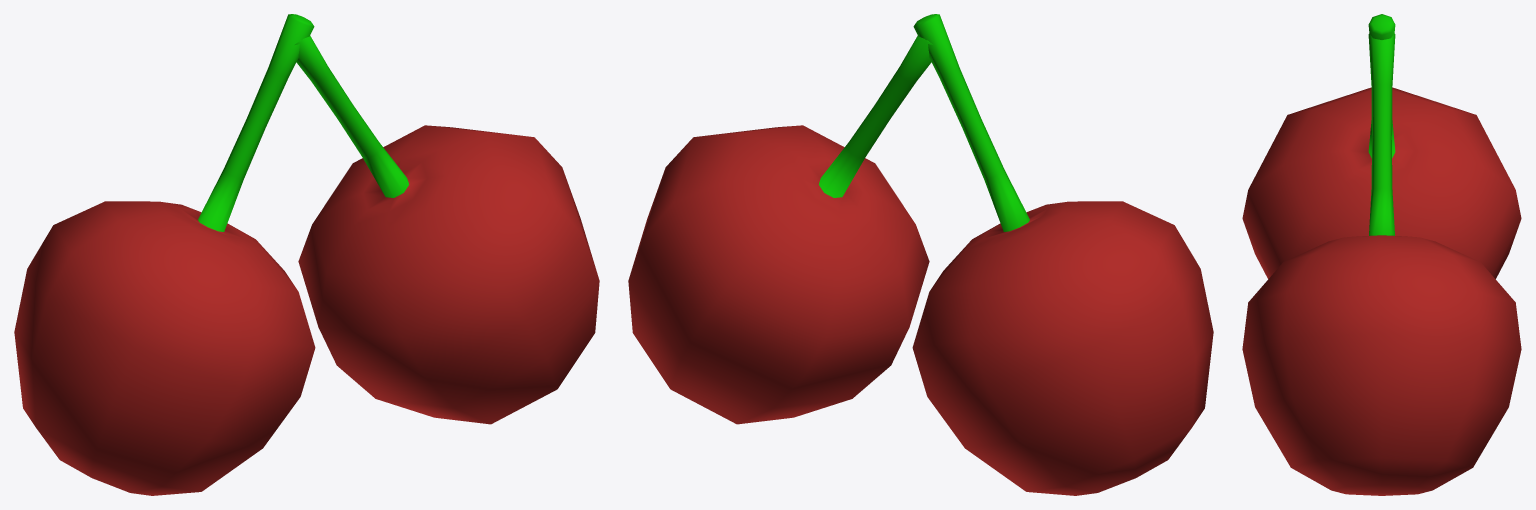
Rendered from cherries.glb.
3 views of the same model, side by side, from view 1: azimuth 30°, elevation 25°; view 2: azimuth 150°, elevation 25°; view 3: azimuth 270°, elevation 25° (orthographic). The views are drawn at different scales.
Parts seen in each view (by area): view 1: cherry.001; view 2: cherry.001; view 3: cherry.001.
Part boxes in pixels (x1,y1,x2,y2): cherry.001: [14, 14, 599, 495]; cherry.001: [628, 14, 1213, 495]; cherry.001: [1242, 14, 1521, 495].
Bounding box in the file's own units: 0.1057 × 0.0801 × 0.0507.
